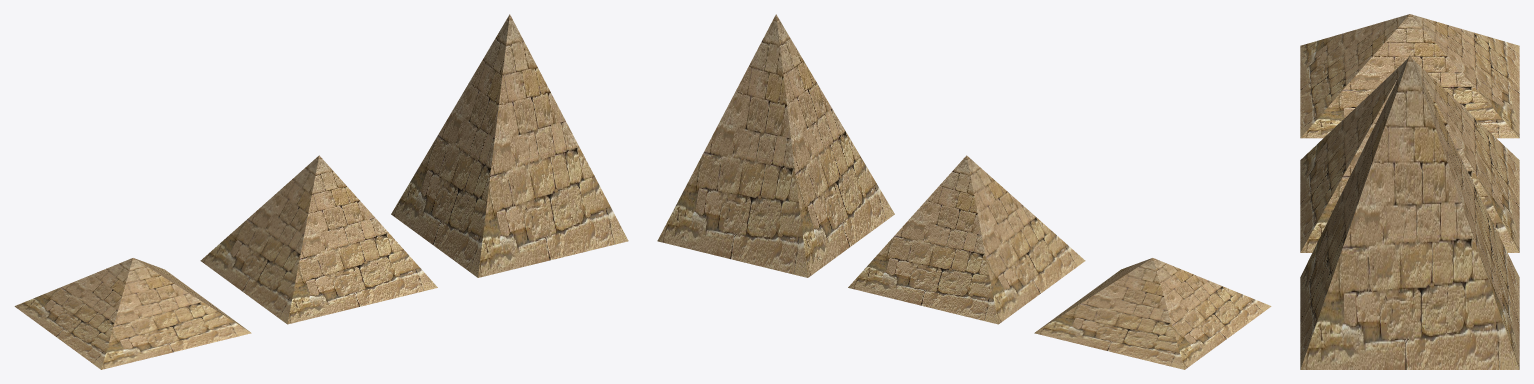
Rendered from Pyramids.fbx.
3 views of the same model, side by side, from view 1: azimuth 30°, elevation 25°; view 2: azimuth 150°, elevation 25°; view 3: azimuth 270°, elevation 25° (orthographic). The views are drawn at different scales.
Parts seen in each view (by area): view 1: Cube.002, Cube.001, Cube; view 2: Cube.002, Cube.001, Cube; view 3: Cube.002, Cube, Cube.001.
Part boxes in pixels (x1=…): Cube.002: x1=391, y1=14, x2=628, y2=277; Cube.001: x1=200, y1=155, x2=437, y2=324; Cube: x1=14, y1=258, x2=251, y2=369; Cube.002: x1=657, y1=14, x2=894, y2=277; Cube.001: x1=848, y1=155, x2=1085, y2=324; Cube: x1=1034, y1=258, x2=1271, y2=369; Cube.002: x1=1300, y1=55, x2=1519, y2=369; Cube: x1=1300, y1=14, x2=1519, y2=138; Cube.001: x1=1300, y1=59, x2=1519, y2=252.
Size of the model in its own units: 700 by 271 by 200.
